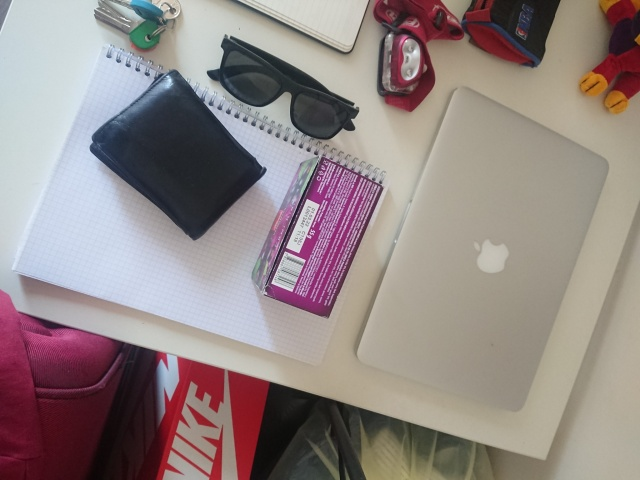Franck Black Currant Tea 60g: (249, 153, 385, 321)
